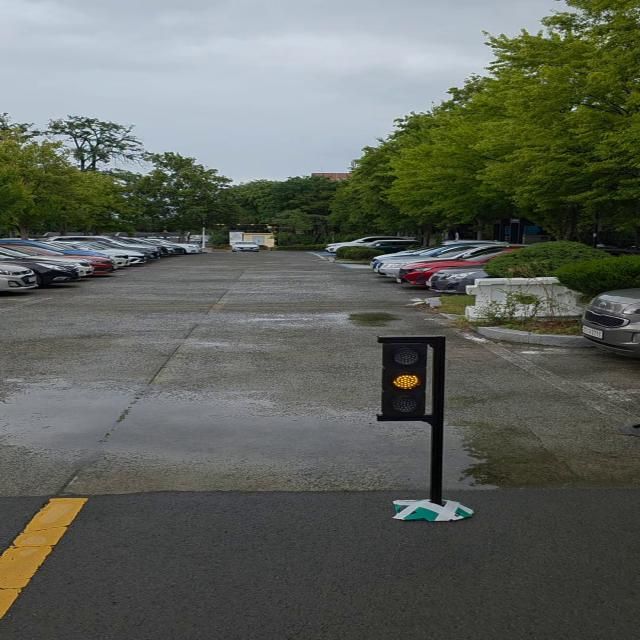yellow: (384, 337, 431, 425)
